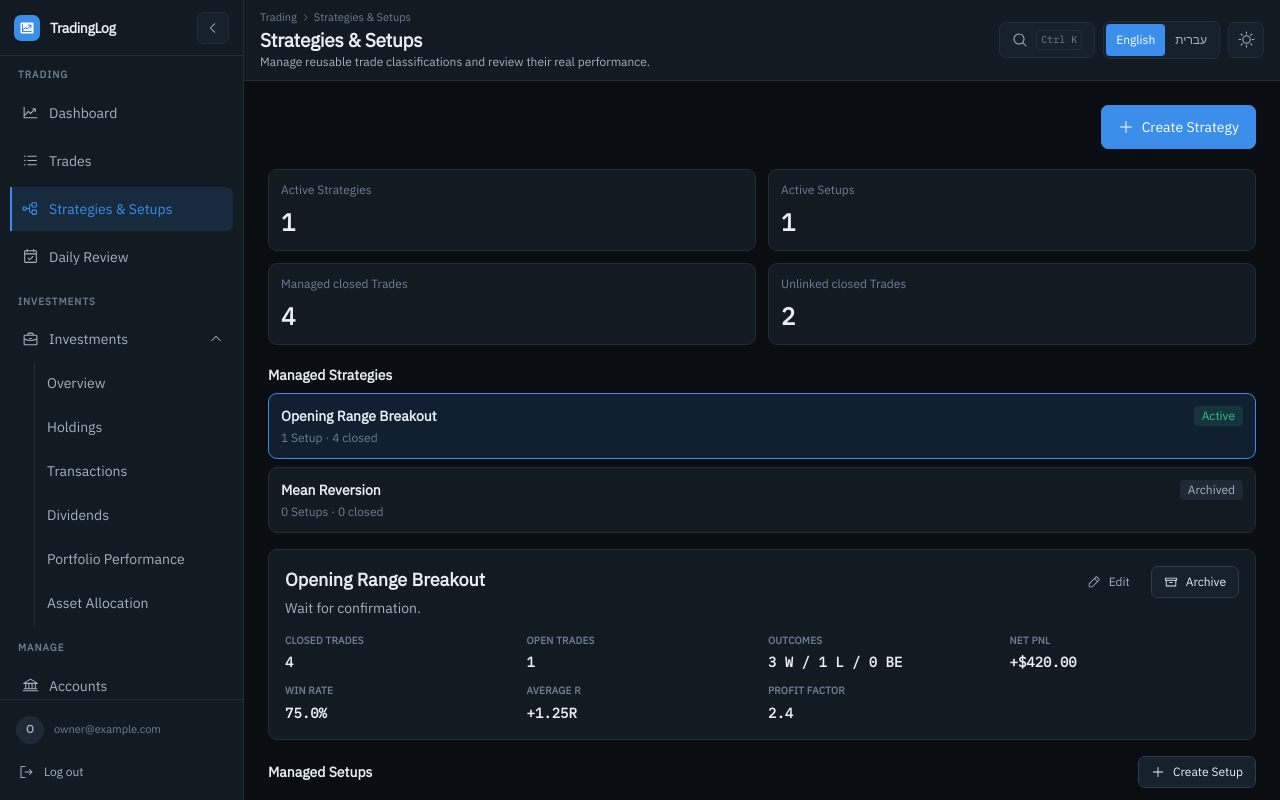
Test: Strategies & Setups page › keeps a failed create form open and maps a stable duplicate error truthfully
Step 1. Click the button "Create Strategy" → coordinates (1178, 127), box [1101,105,1256,149]
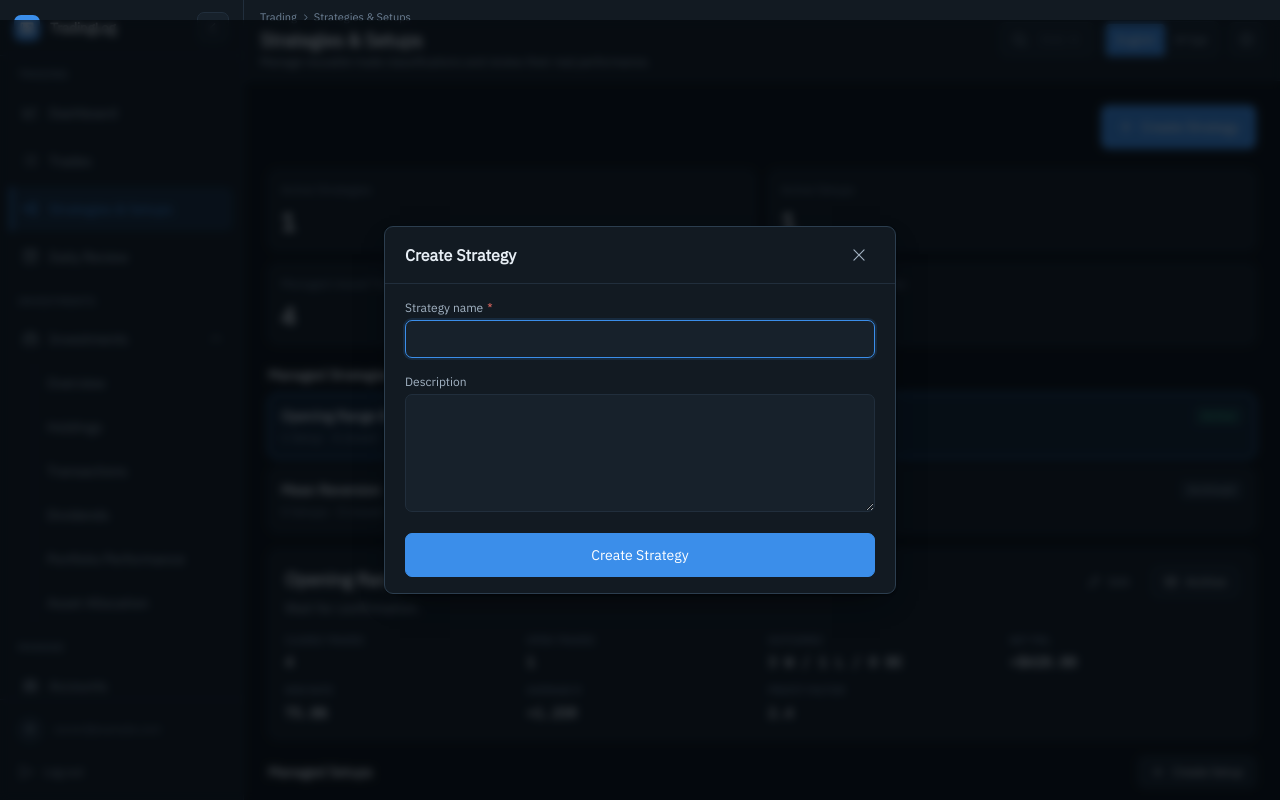
Step 2. Type "Opening Range Breakout" into the field labelled "Strategy name*" → coordinates (640, 339), box [405,320,875,358]
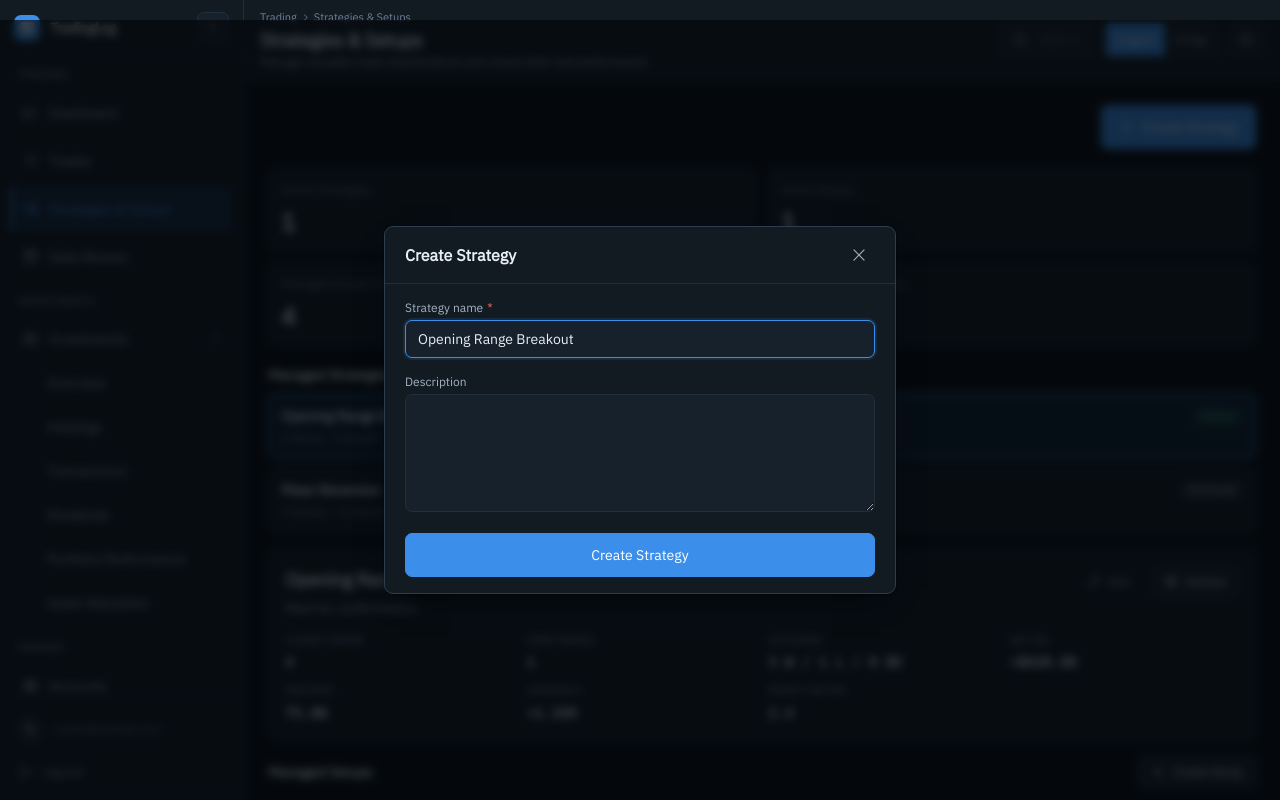
Step 3. Click the button "Create Strategy" → coordinates (640, 555), box [405,533,875,577]
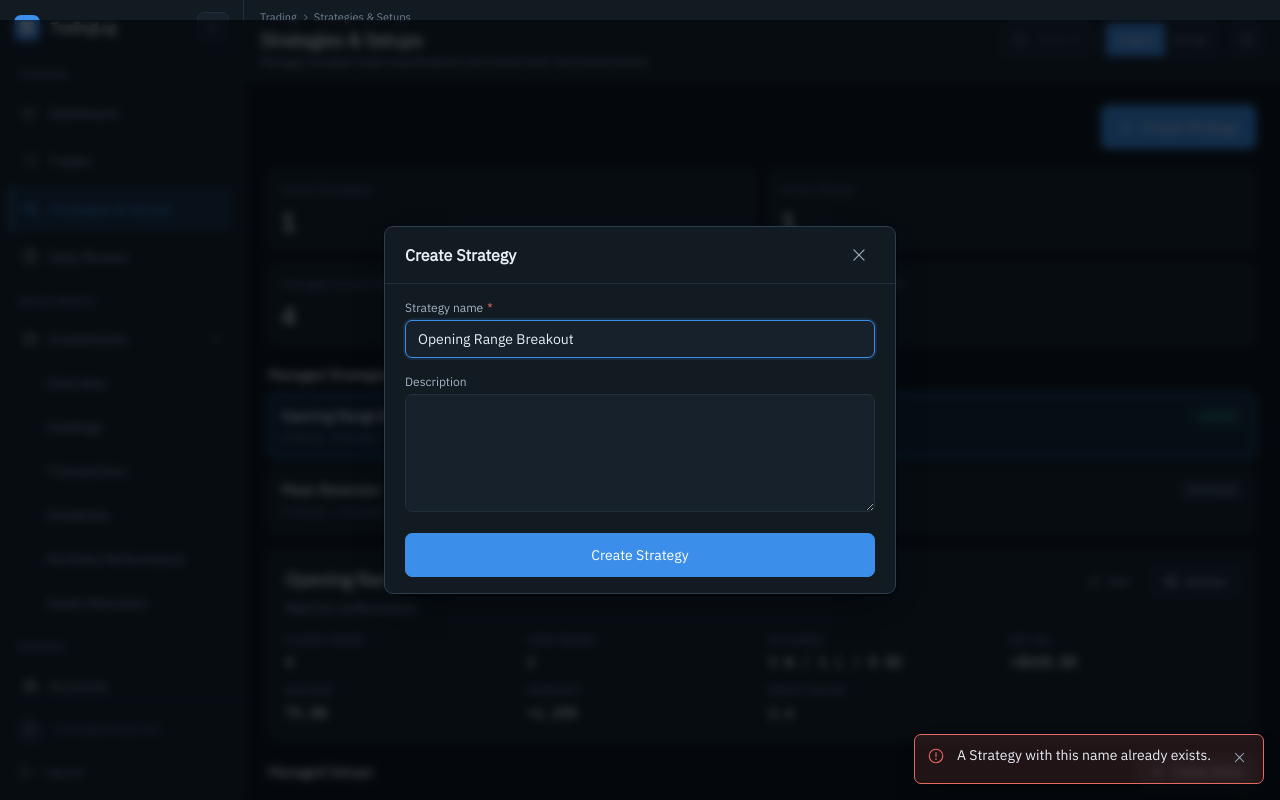
Check: the text "A Strategy with this name already exists." is shown, box [957,745,1211,765]
